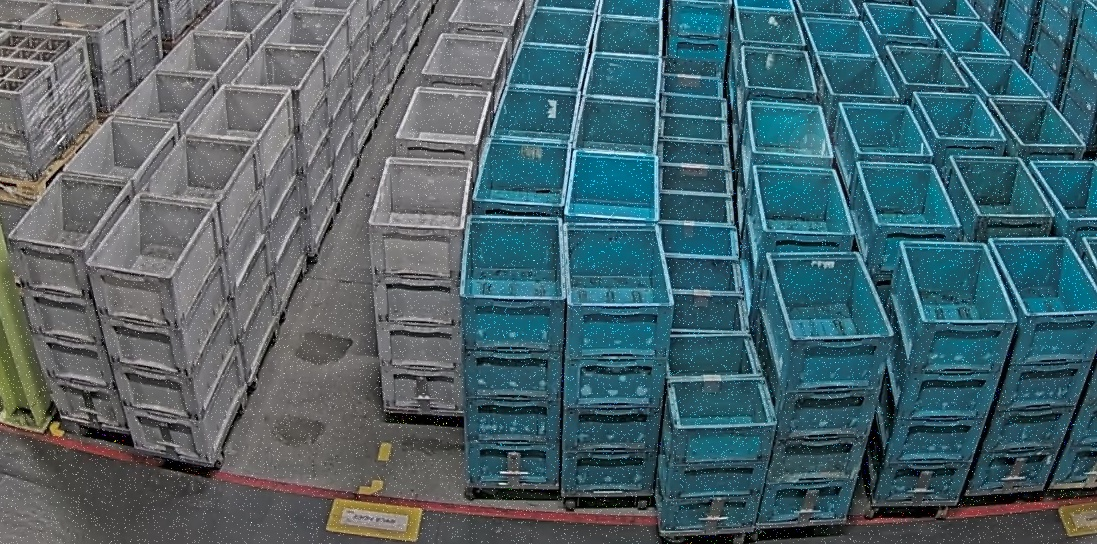4G: (87, 195, 246, 466), (7, 172, 137, 434), (368, 160, 473, 412)
B4: (867, 233, 1017, 508), (755, 252, 894, 529), (964, 238, 1096, 497), (560, 223, 674, 497), (460, 214, 565, 485)
B8: (660, 332, 776, 533)
